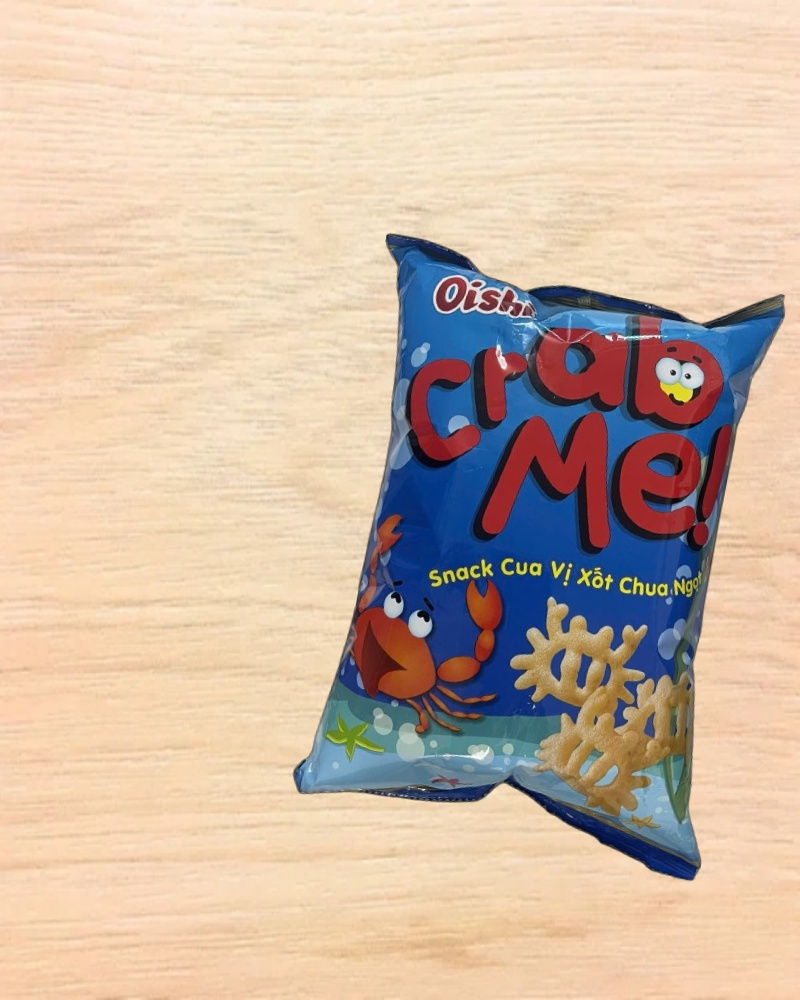Snack cua: (287, 226, 800, 876)
